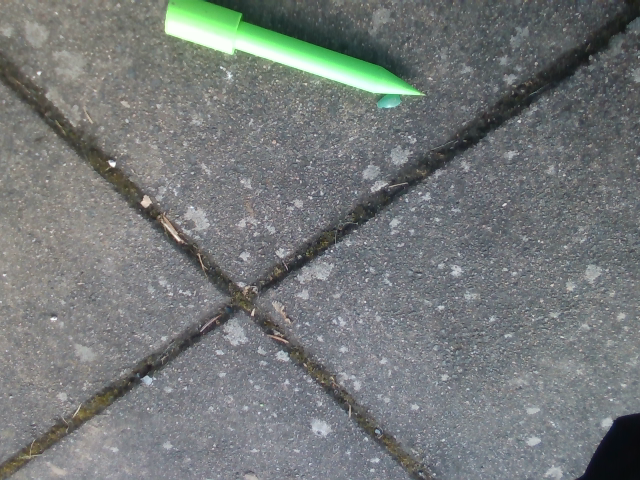Probe: (163, 1, 432, 102)
